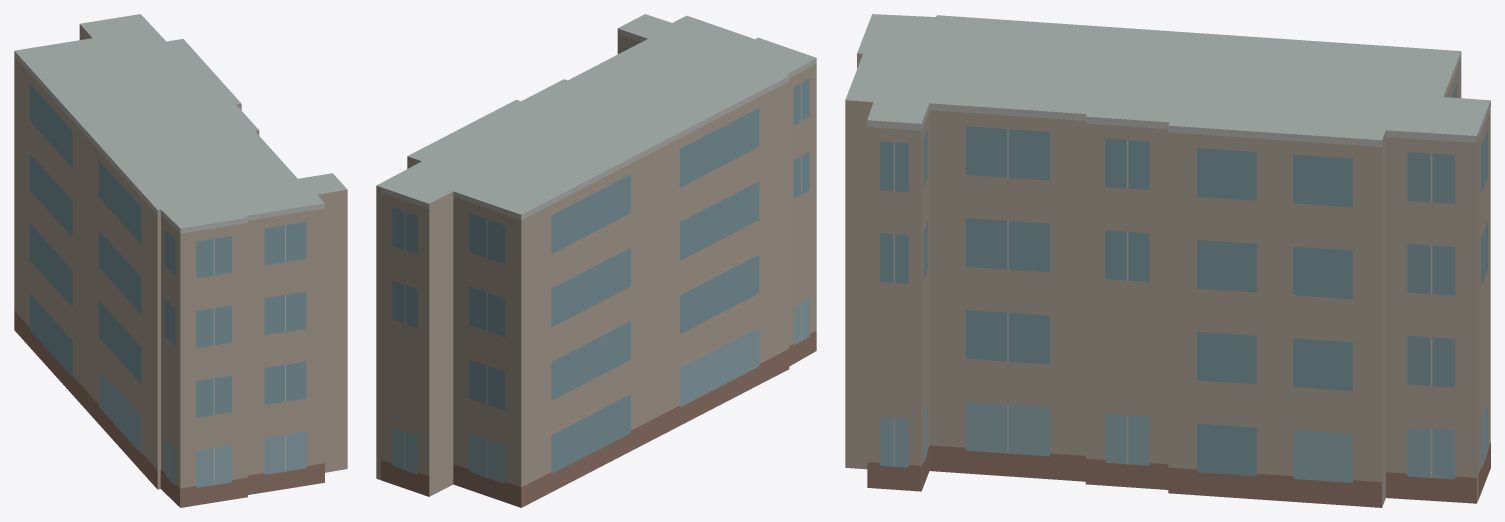
Rendered from survey-upis-32927935.glb.
The picture shows the model from 3 angles, left to right: view 1: azimuth 30°, elevation 25°; view 2: azimuth 150°, elevation 25°; view 3: azimuth 270°, elevation 25°; orthographic projection. The views are drawn at different scales.
Visible parts, largest first — view 1: survey-upis-32927935.tmp; view 2: survey-upis-32927935.tmp; view 3: survey-upis-32927935.tmp.
Boxes of the visible parts, left/top/right/bottom form: survey-upis-32927935.tmp: left=14, top=14, right=347, bottom=507; survey-upis-32927935.tmp: left=376, top=14, right=816, bottom=507; survey-upis-32927935.tmp: left=845, top=14, right=1490, bottom=507.
Size of the model in its own units: 9.7 by 13.15 by 20.94.
